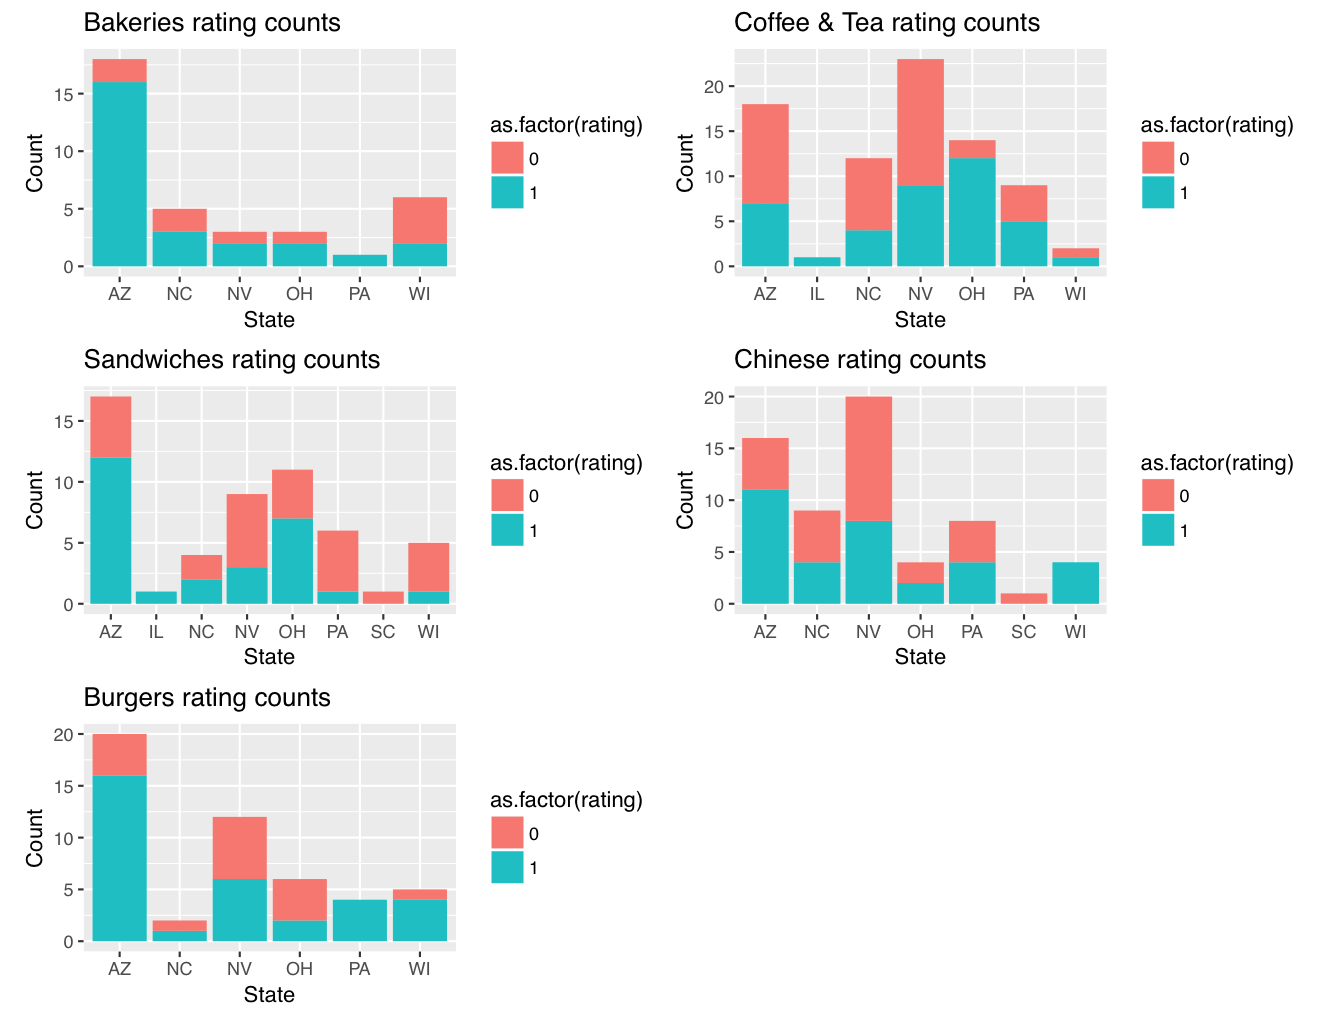

The dashboard page shown, as its layout file describes it:
{"tool":"tableau","page":{"name":"Dashboard 1","canvas":[1000,800],"ordinal":0},"visuals":[{"type":"legend","title":"Sheet 1","param":"[federated.0tj8wf51snrsmi12ofu6d1w99ebb].[sum:Suspected_malaria_cases:qk]","box":[0,0,113,412]},{"type":"worksheet","title":"Sheet 1","mark":"Automatic","box":[113,0,883,412]},{"type":"worksheet","title":"Sheet 2","mark":"Automatic","rows":["Country"],"cols":["Suspected_malaria_cases"],"box":[0,412,498,356]},{"type":"worksheet","title":"Sheet 3","mark":"Automatic","rows":["Suspected_malaria_cases"],"cols":["WHO_region"],"box":[498,412,498,356]},{"type":"legend","title":"Sheet 3","param":"[federated.0tj8wf51snrsmi12ofu6d1w99ebb].[none:WHO_region:nk]","box":[0,768,1000,32]}]}

Visuals, with their boxes on the page's 1000x800 design canvas (x1, y1, x2, y2). These are canvas units, not pixel positions in the 1334x1012 screenshot, which may show the page scaled, cropped or inside an application window:
"Sheet 1" legend: 0:0:113:412
"Sheet 1" worksheet: 113:0:996:412
"Sheet 2" worksheet: 0:412:498:768
"Sheet 3" worksheet: 498:412:996:768
"Sheet 3" legend: 0:768:1000:800
